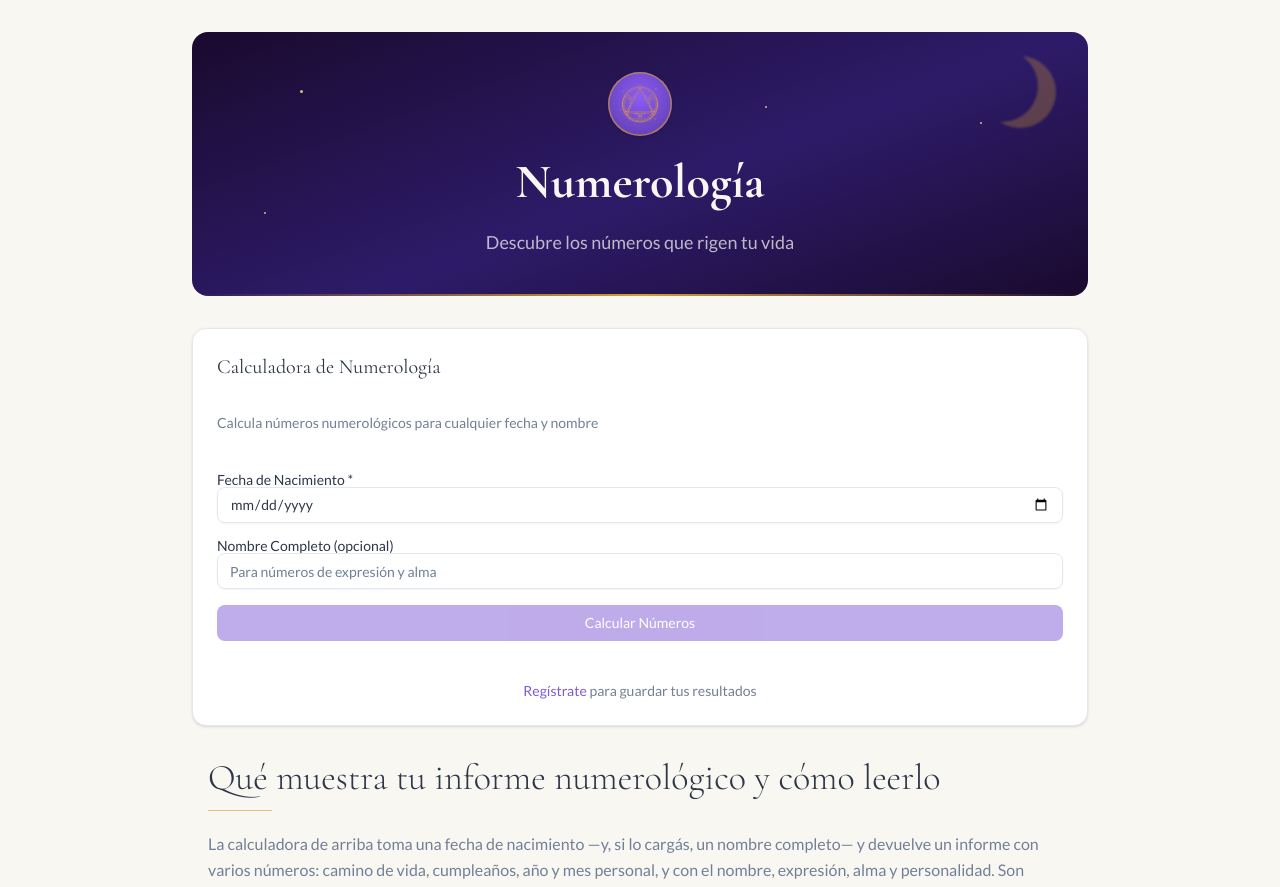
Test case: NumerologiaPage › Form validation › should enable button when birth date is provided
Type "1990-01-15" into the date field labelled "Fecha de Nacimiento *" at (640, 505), box [217,487,1063,523]
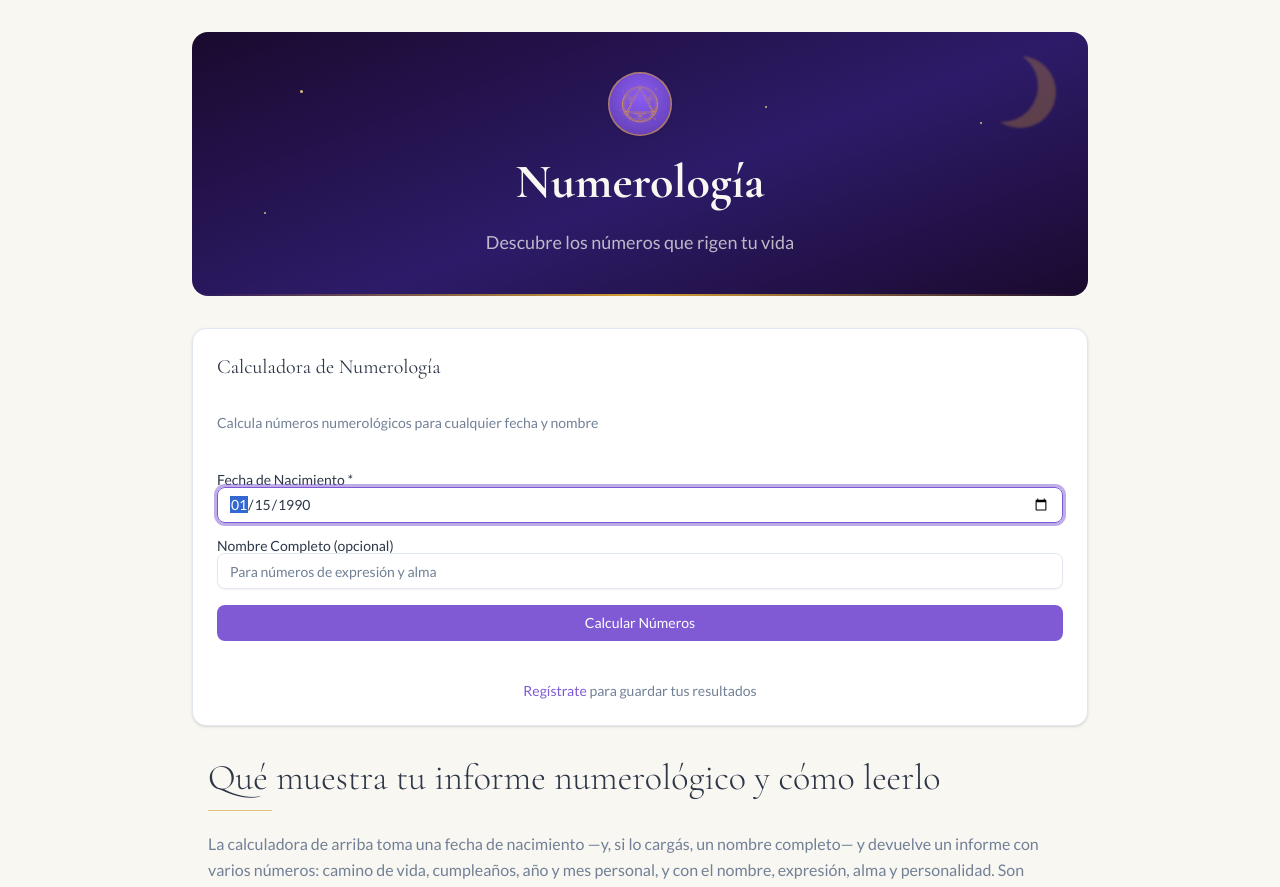
Result: the button "Calcular Números" is enabled at [217,605,1063,641]
